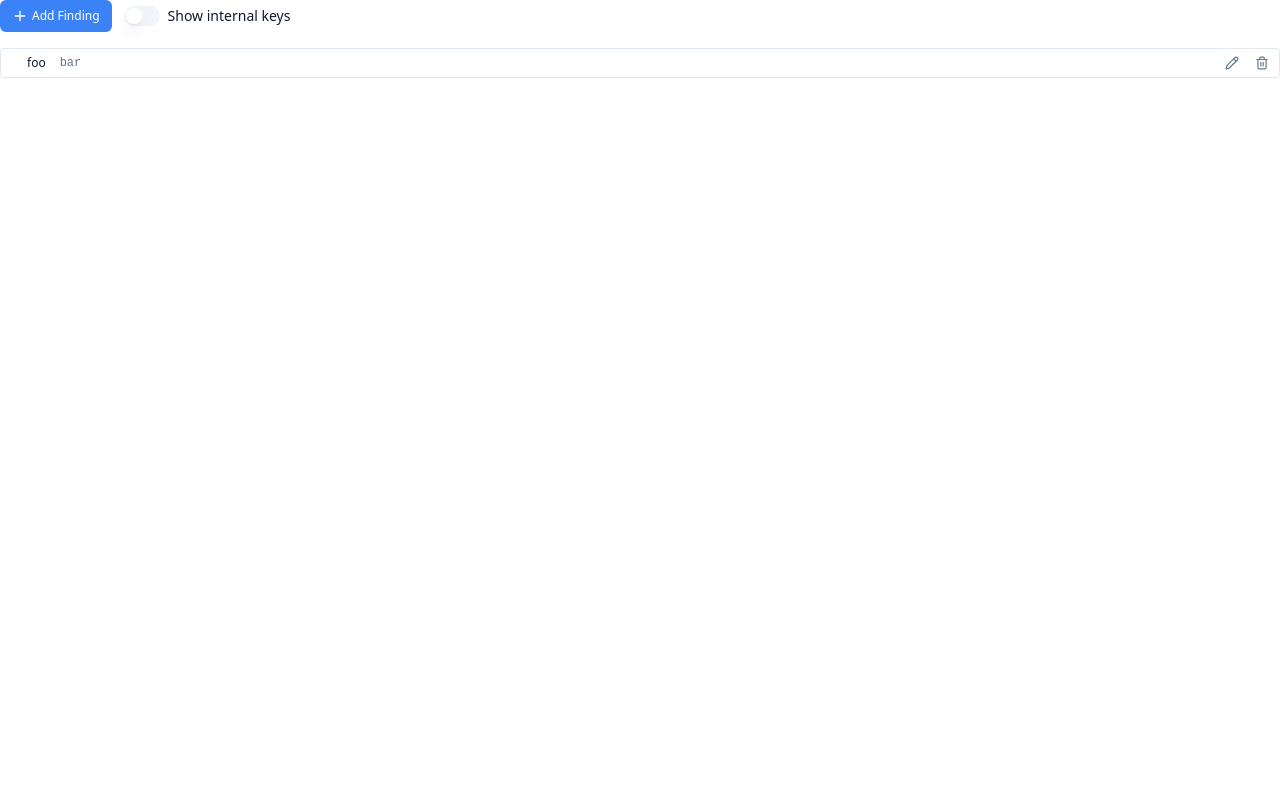
Test: ProjectFindingsTab › Delete Finding › closes ConfirmDialog on cancel without mutation
Click the button titled "Delete" at coordinates (1262, 63), box [1249, 50, 1275, 76]
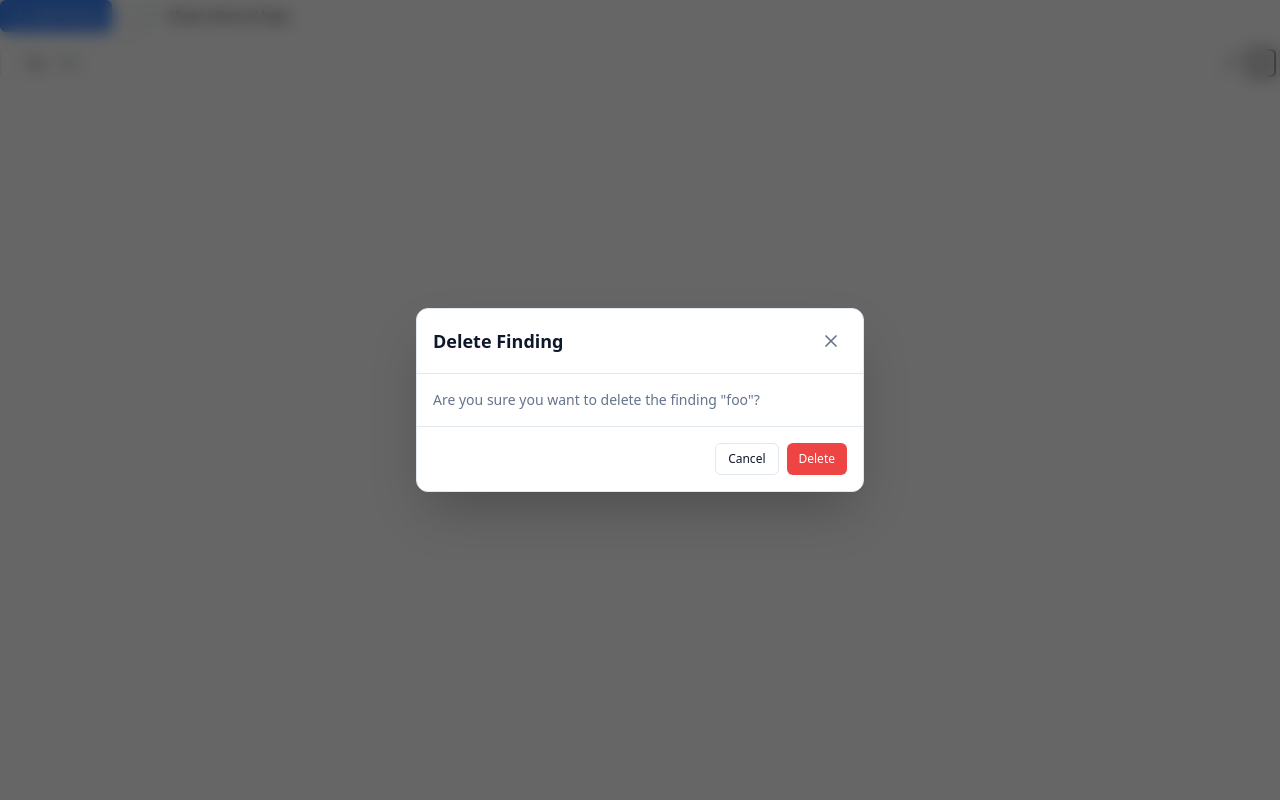
Result: the heading "Delete Finding" is shown at [433, 329, 564, 353]
Click the button "Cancel" at coordinates (747, 459), box [715, 443, 778, 475]
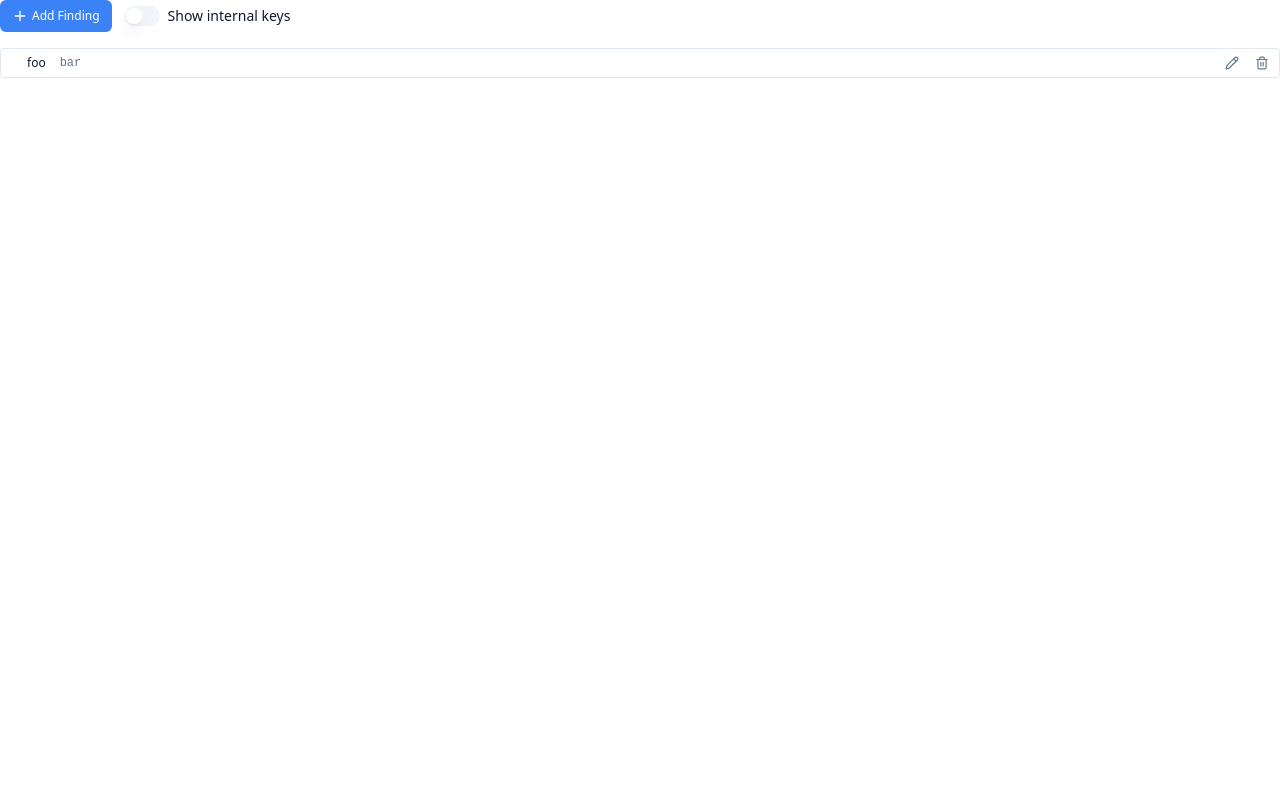
Result: the heading "Delete Finding" is gone
